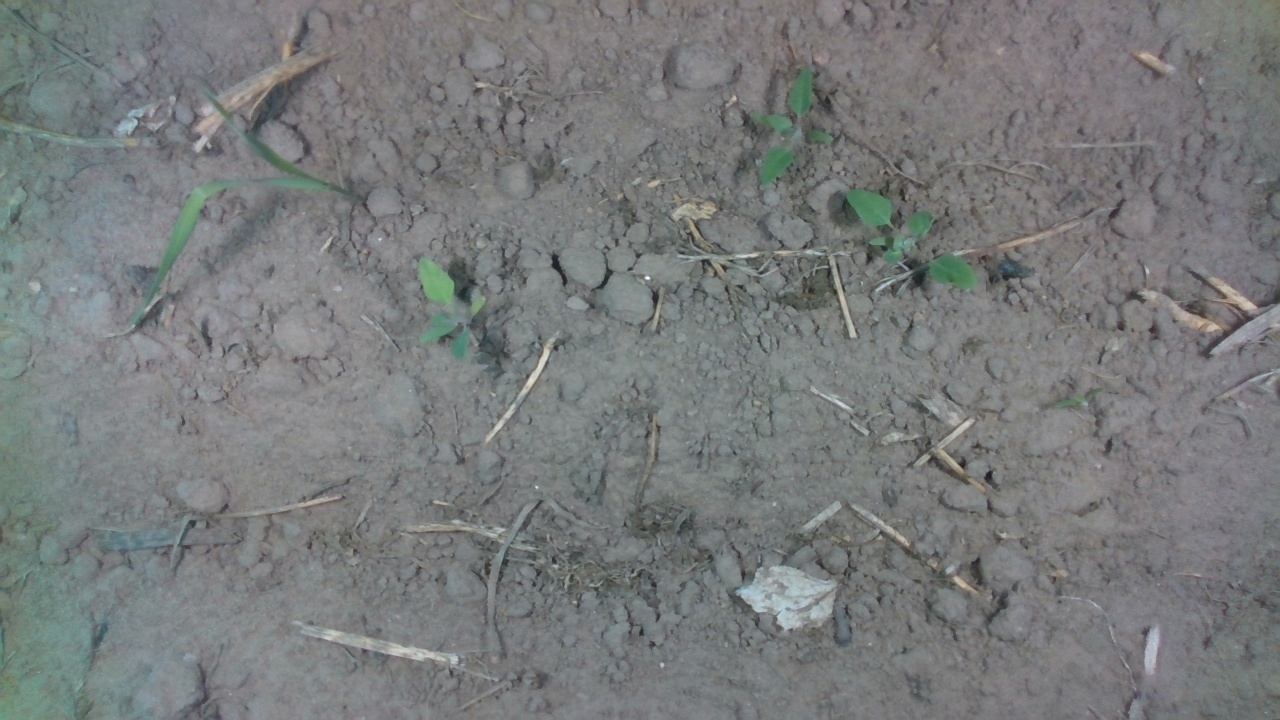weed: (843, 184, 978, 292), (755, 64, 836, 185), (414, 255, 490, 357), (1051, 385, 1106, 410)
